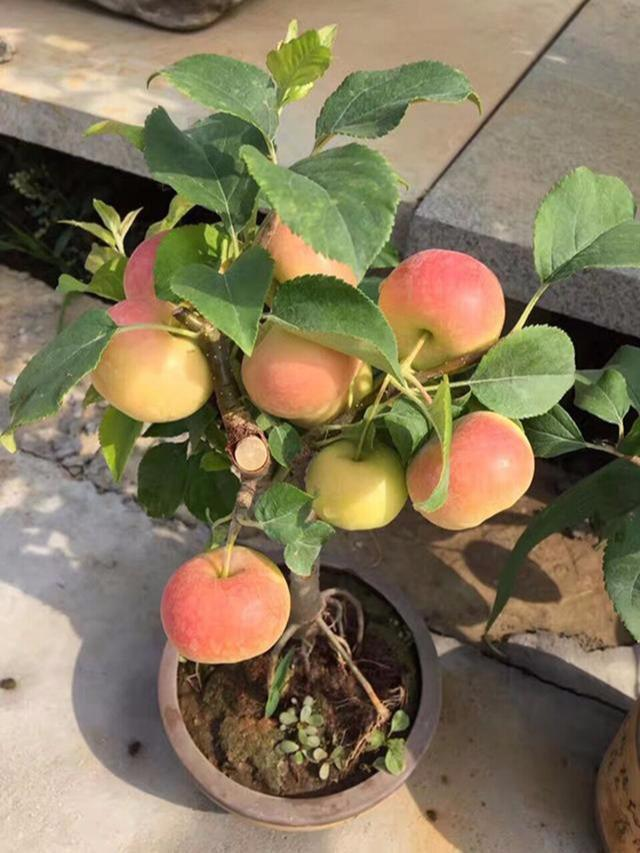apple: (375, 249, 505, 377), (89, 301, 217, 422), (405, 412, 532, 533), (162, 548, 292, 663), (306, 440, 410, 535)
